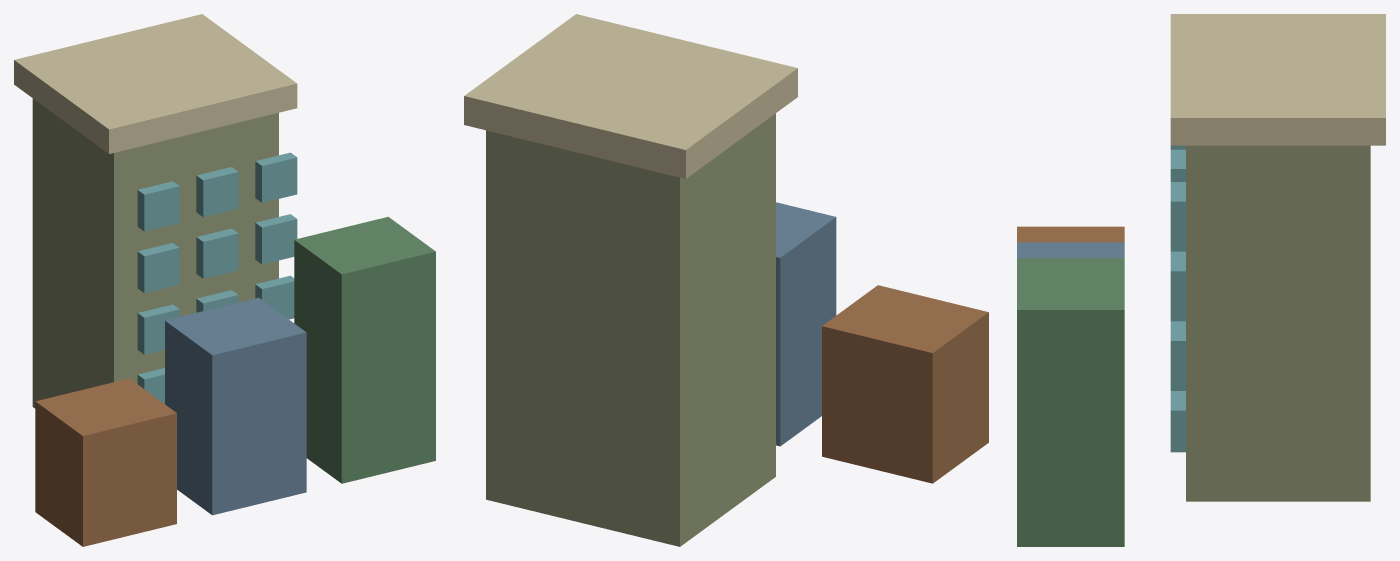
The model's file is property-15.glb.
The picture shows the model from 3 angles, left to right: view 1: azimuth 30°, elevation 25°; view 2: azimuth 150°, elevation 25°; view 3: azimuth 270°, elevation 25°; orthographic projection. The views are drawn at different scales.
Visible parts, largest first — view 1: City model; view 2: City model; view 3: City model.
Part boxes in pixels (<box>): City model: <box>14,14,435,546</box>; City model: <box>464,14,988,546</box>; City model: <box>1017,14,1385,546</box>.
Size of the model in its own units: 2.4 by 2.24 by 1.92.
